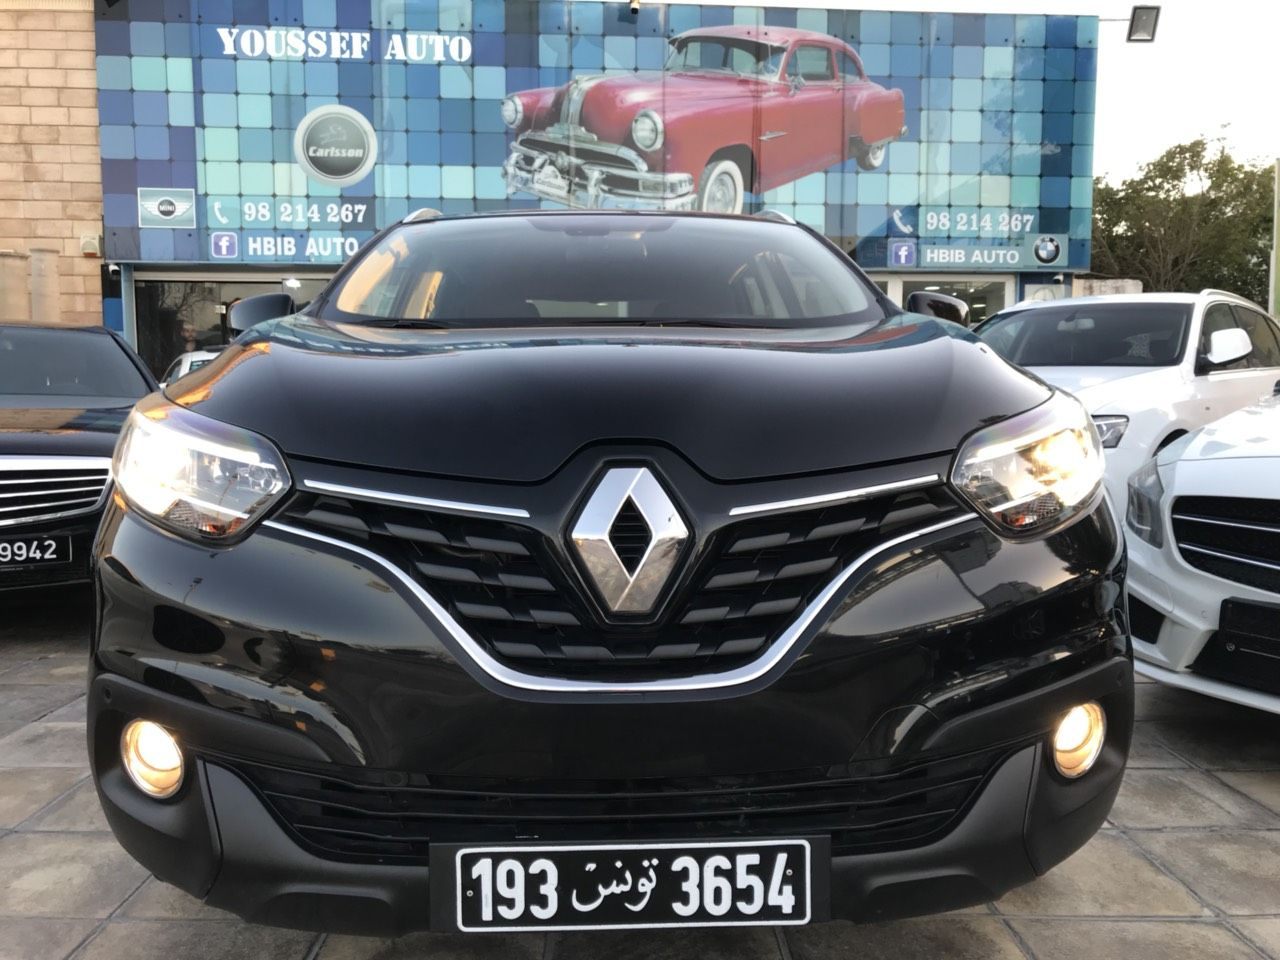LP: (452, 842, 813, 934)
